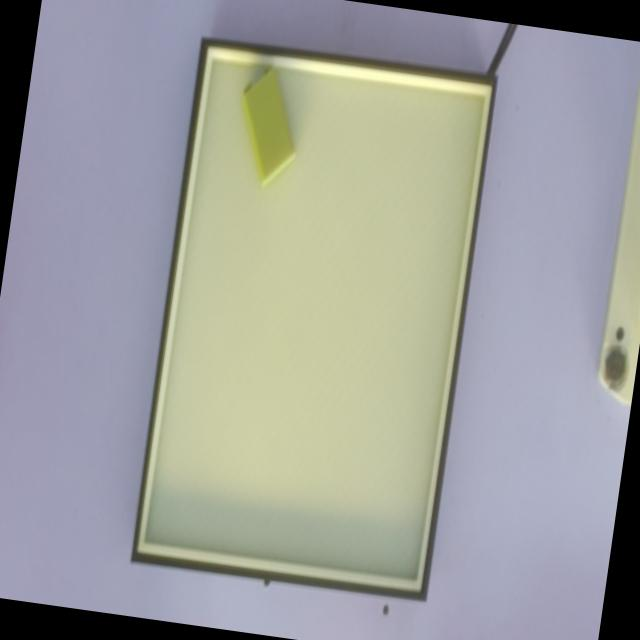bateria: (242, 63, 299, 187)
mesa: (130, 38, 499, 603)
